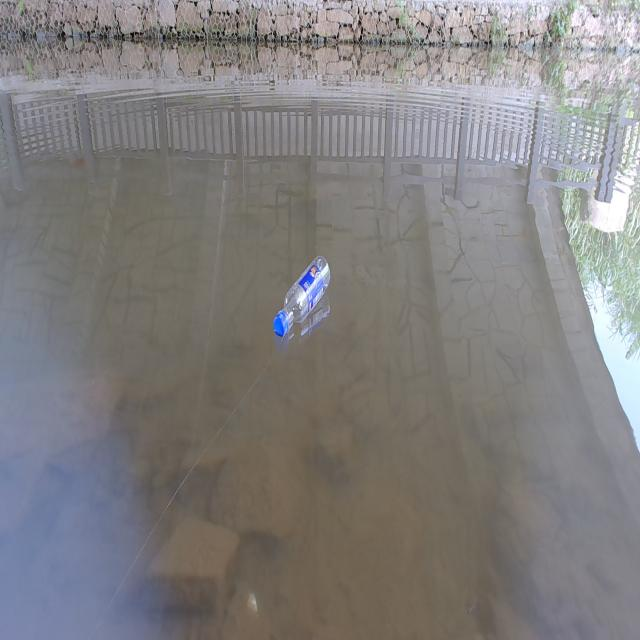Bottle: (270, 252, 332, 338)
